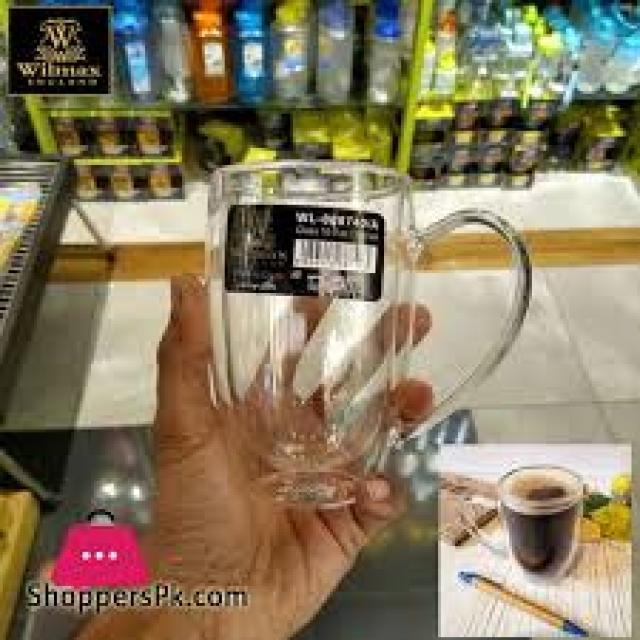taza: (190, 142, 540, 506), (449, 463, 596, 583)
